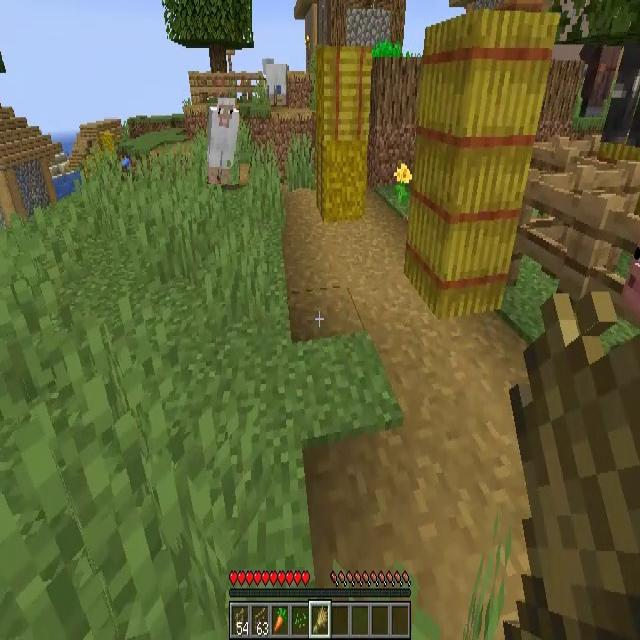flower: (392, 162, 412, 202)
sheep: (207, 98, 239, 184)
